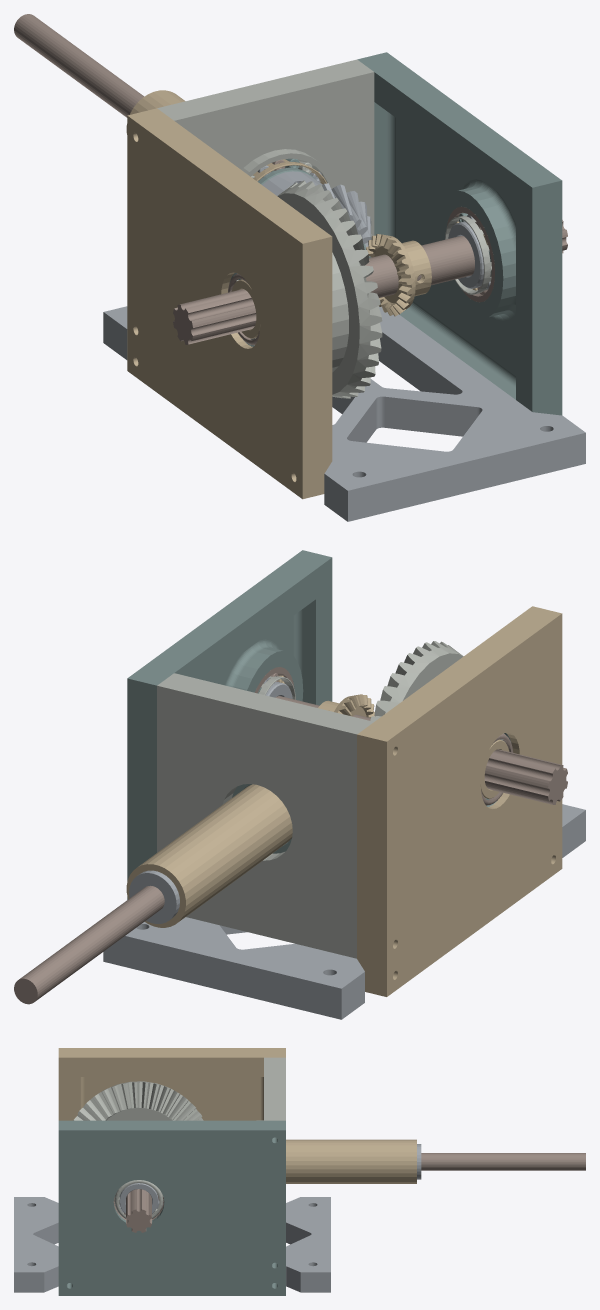
File: subc-drivetrain-assembly.glb
The picture shows the model from 3 angles, top to bottom: view 1: azimuth 30°, elevation 25°; view 2: azimuth 150°, elevation 25°; view 3: azimuth 270°, elevation 25°; orthographic projection. The views are drawn at different scales.
Parts seen in each view (by area): view 1: part-6, part-7, part-9, part-8, part-3, part-10, part-5, part-1, part-4, part-38, part-54, part-53 (+2 smaller); view 2: part-6, part-8, part-7, part-9, part-16, part-5, part-10, part-3, part-74, part-1; view 3: part-7, part-6, part-9, part-16, part-3, part-5, part-8, part-10, part-54, part-53.
Part boxes in pixels (left/top/right/bottom): part-6: left=127, top=108, right=332, bottom=499; part-7: left=357, top=52, right=562, bottom=415; part-9: left=103, top=306, right=585, bottom=521; part-8: left=157, top=59, right=374, bottom=239; part-3: left=277, top=180, right=382, bottom=398; part-10: left=173, top=220, right=567, bottom=344; part-5: left=14, top=14, right=144, bottom=117; part-1: left=366, top=234, right=431, bottom=316; part-4: left=262, top=171, right=371, bottom=247; part-38: left=242, top=149, right=333, bottom=188; part-54: left=448, top=221, right=483, bottom=288; part-53: left=445, top=215, right=491, bottom=294; part-6: left=357, top=606, right=562, bottom=996; part-8: left=157, top=673, right=373, bottom=958; part-7: left=127, top=550, right=332, bottom=899; part-9: left=103, top=804, right=585, bottom=1019; part-16: left=126, top=784, right=292, bottom=927; part-5: left=14, top=885, right=164, bottom=1004; part-10: left=275, top=696, right=567, bottom=804; part-3: left=370, top=641, right=463, bottom=721; part-74: left=129, top=870, right=179, bottom=923; part-1: left=318, top=694, right=374, bottom=717; part-7: left=58, top=1120, right=285, bottom=1295; part-6: left=58, top=1048, right=285, bottom=1120; part-9: left=14, top=1197, right=330, bottom=1292; part-16: left=286, top=1139, right=416, bottom=1183; part-3: left=73, top=1081, right=203, bottom=1120; part-5: left=421, top=1153, right=585, bottom=1170; part-8: left=264, top=1057, right=285, bottom=1120; part-10: left=126, top=1189, right=151, bottom=1232; part-54: left=119, top=1183, right=158, bottom=1213; part-53: left=114, top=1180, right=163, bottom=1218.
Size of the model in its own units: 200 by 130 by 407.
